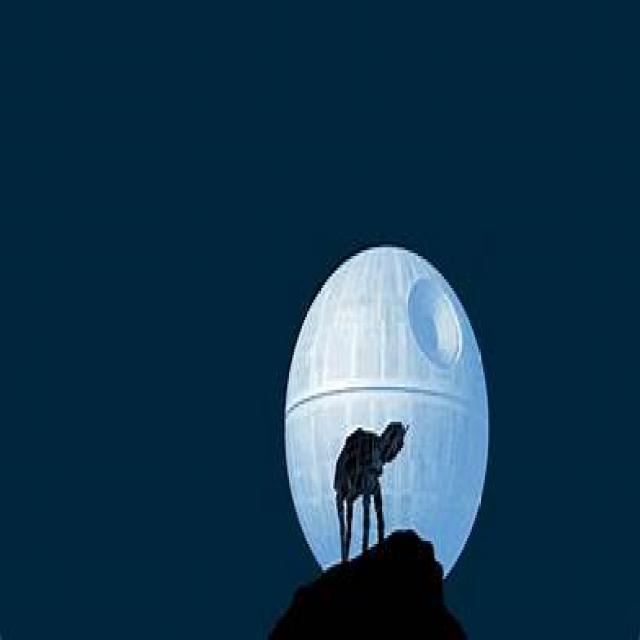deathStar: (286, 244, 491, 599)
